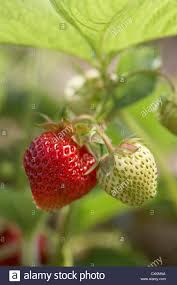ripe: (18, 119, 99, 214)
unripe: (96, 141, 160, 210)
